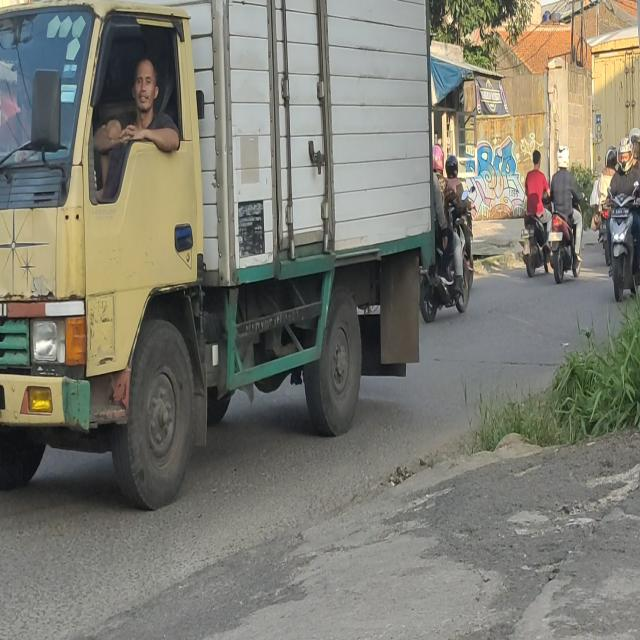helmet: (618, 136, 634, 171), (432, 144, 445, 174), (629, 126, 640, 158), (446, 157, 460, 179), (558, 146, 570, 170), (605, 149, 618, 167)
no-helmet: (532, 151, 542, 171)
